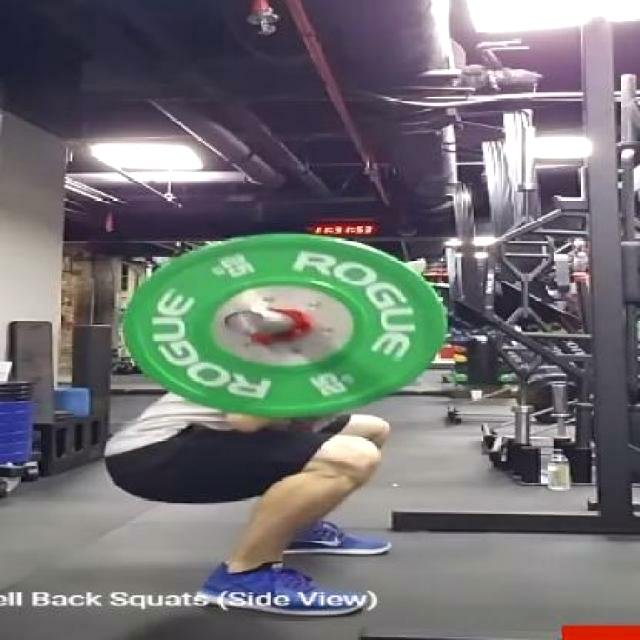barbell: (111, 212, 455, 424)
